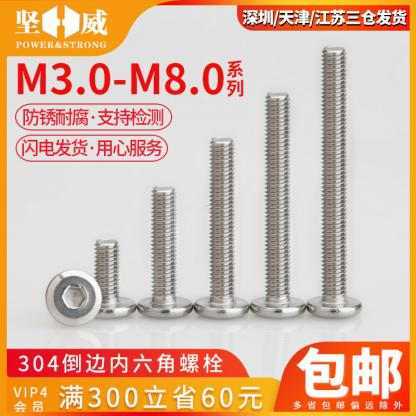FOD: (306, 44, 364, 320), (249, 88, 306, 322), (194, 134, 252, 321), (136, 183, 193, 321), (79, 237, 138, 320), (43, 269, 102, 328)
